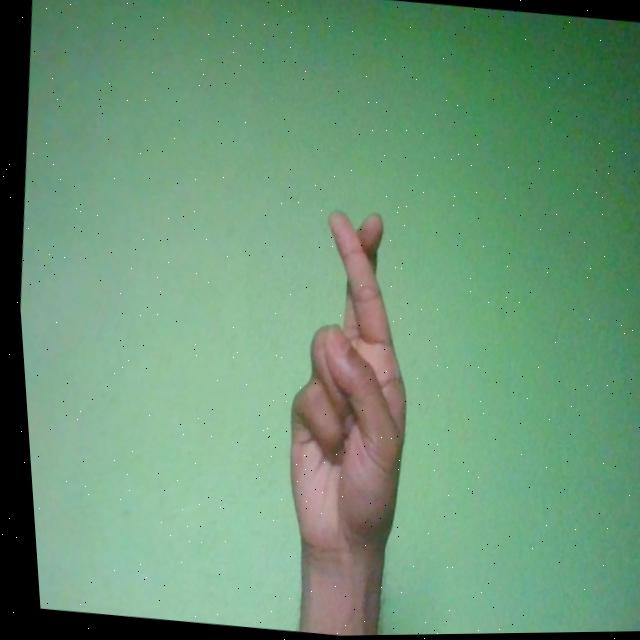Good Luck: (258, 204, 429, 565)
